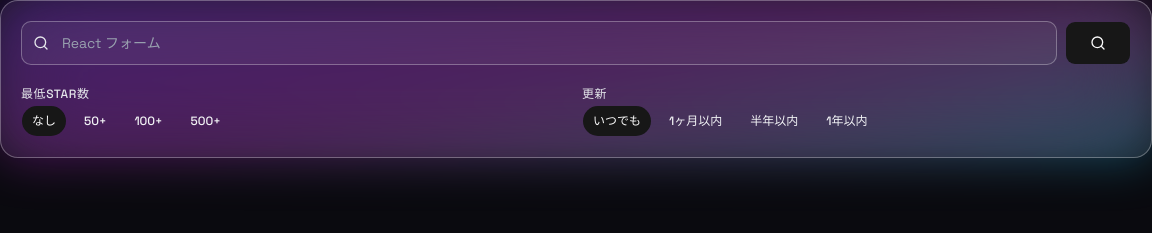
it: SearchCard › 空入力で検索ボタンを押すとバリデーションメッセージが表示される
Click the button named "検索": point(1098, 43) [1065,21,1131,65]
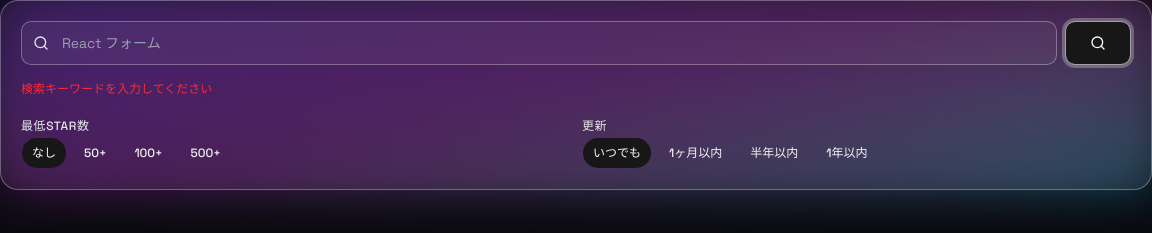
Result: the text "検索キーワードを入力してください" is shown at [21,81,212,97]
